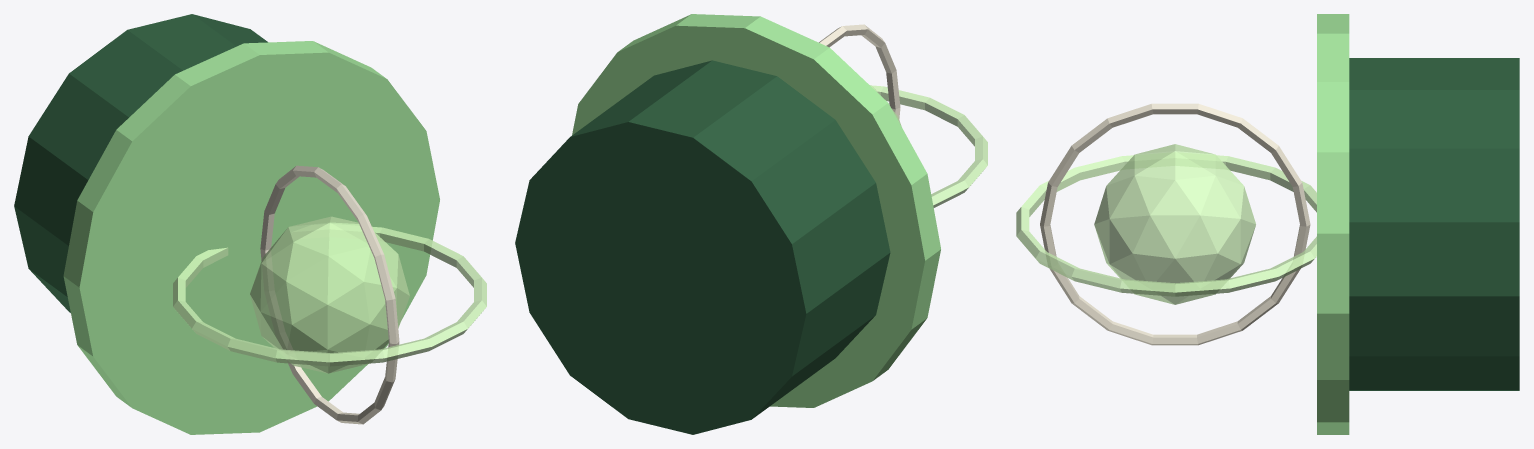
File: 09_high_tier_relic_pedestal.glb
The picture shows the model from 3 angles, left to right: view 1: azimuth 30°, elevation 25°; view 2: azimuth 150°, elevation 25°; view 3: azimuth 270°, elevation 25°; orthographic projection.
Visible parts, largest first — view 1: top_rim, relic_pedestal, floating_relic_core, relic_orbit_a, relic_orbit_b; view 2: relic_pedestal, top_rim, relic_orbit_a, relic_orbit_b; view 3: relic_pedestal, floating_relic_core, top_rim, relic_orbit_b, relic_orbit_a.
Boxes of the visible parts, bbox=[...] form: top_rim: bbox=[63, 41, 439, 434]; relic_pedestal: bbox=[14, 14, 267, 312]; floating_relic_core: bbox=[250, 216, 409, 373]; relic_orbit_a: bbox=[173, 226, 486, 366]; relic_orbit_b: bbox=[260, 165, 399, 424]; relic_pedestal: bbox=[515, 60, 890, 434]; top_rim: bbox=[572, 14, 940, 407]; relic_orbit_a: bbox=[871, 85, 987, 207]; relic_orbit_b: bbox=[819, 24, 900, 119]; relic_pedestal: bbox=[1349, 58, 1519, 390]; floating_relic_core: bbox=[1094, 144, 1255, 304]; top_rim: bbox=[1317, 14, 1349, 434]; relic_orbit_b: bbox=[1040, 103, 1310, 345]; relic_orbit_a: bbox=[1016, 155, 1316, 296].
Size of the model in its own units: 1.04 by 1.04 by 1.24.
